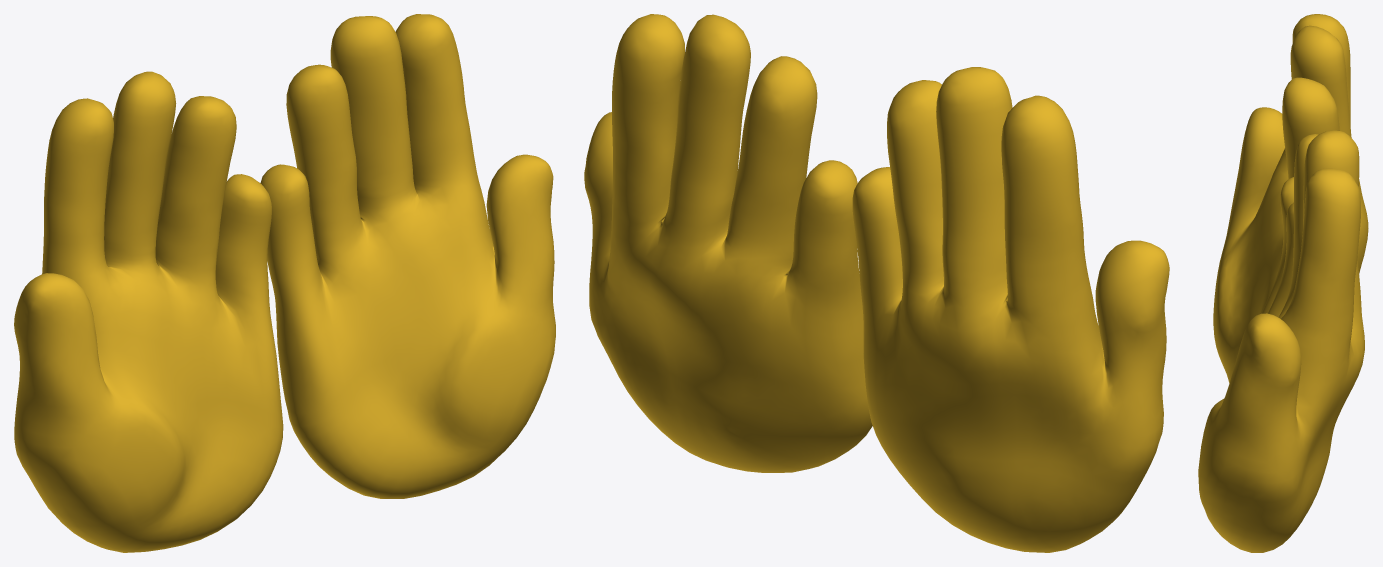
Rendered from Palms Up Together.glb.
3 renders of one model, left to right at view 1: azimuth 30°, elevation 25°; view 2: azimuth 150°, elevation 25°; view 3: azimuth 270°, elevation 25°, orthographic. The views are drawn at different scales.
Parts seen in each view (by area): view 1: Group002, Group003; view 2: Group003, Group002; view 3: Group002, Group003.
Boxes of the visible parts, bbox=[...] form: Group002: bbox=[260, 14, 555, 498]; Group003: bbox=[14, 71, 283, 552]; Group003: bbox=[852, 67, 1169, 552]; Group002: bbox=[584, 14, 872, 472]; Group002: bbox=[1198, 130, 1364, 552]; Group003: bbox=[1213, 14, 1368, 383].
Bounding box in the file's own units: 0.4673 × 0.3827 × 0.1458.
